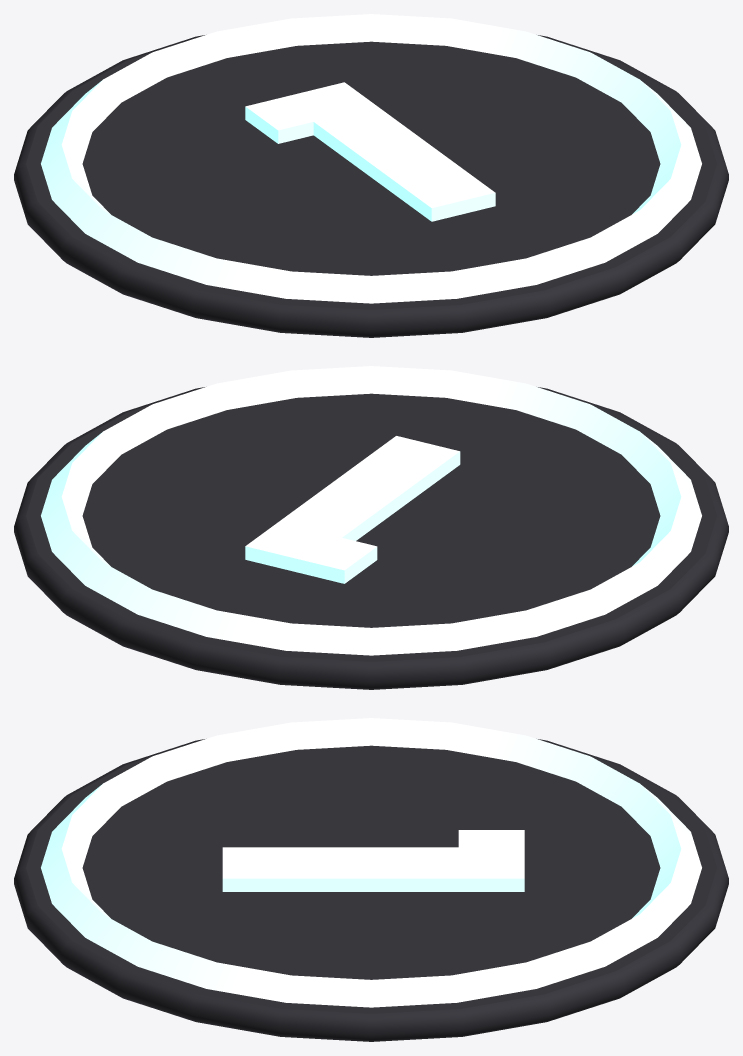
The model's file is kr_joinpad_1.glb.
The picture shows the model from 3 angles, top to bottom: view 1: azimuth 30°, elevation 25°; view 2: azimuth 150°, elevation 25°; view 3: azimuth 270°, elevation 25°; orthographic projection.
Visible parts, largest first — view 1: vc_m0_r4, kr_joinpad_1_neonblue; view 2: vc_m0_r4, kr_joinpad_1_neonblue; view 3: vc_m0_r4, kr_joinpad_1_neonblue.
Part boxes in pixels (left/top/right/bottom): vc_m0_r4: left=14, top=35, right=728, bottom=337; kr_joinpad_1_neonblue: left=41, top=14, right=701, bottom=303; vc_m0_r4: left=14, top=387, right=728, bottom=689; kr_joinpad_1_neonblue: left=41, top=366, right=701, bottom=655; vc_m0_r4: left=14, top=739, right=728, bottom=1041; kr_joinpad_1_neonblue: left=41, top=718, right=701, bottom=1007.
Size of the model in its own units: 1.2 by 0.085 by 1.2.
